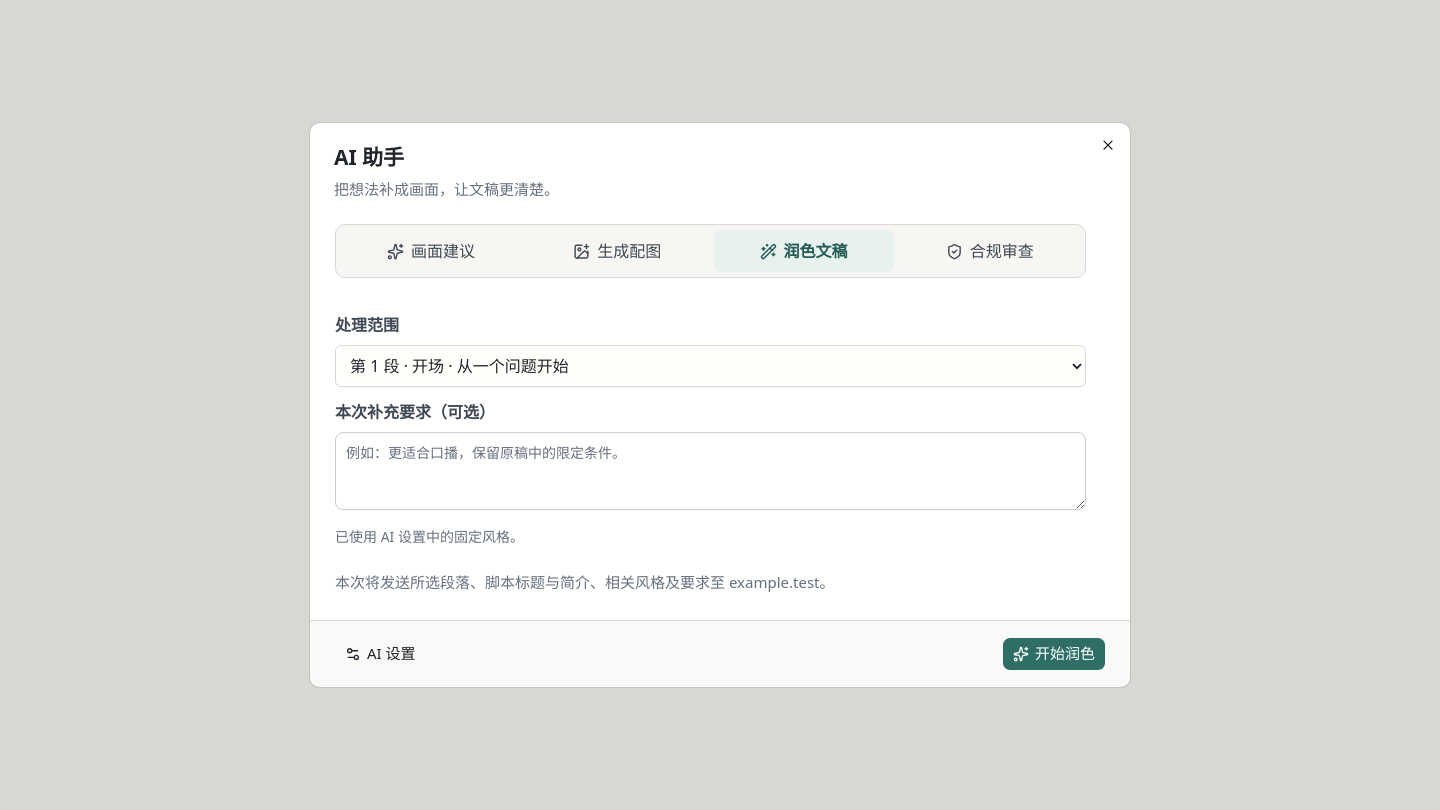
AI editor workflows › requests structured output for polish before showing a result
Click the button "开始润色" at (1054, 654), box [1002,637,1106,671]
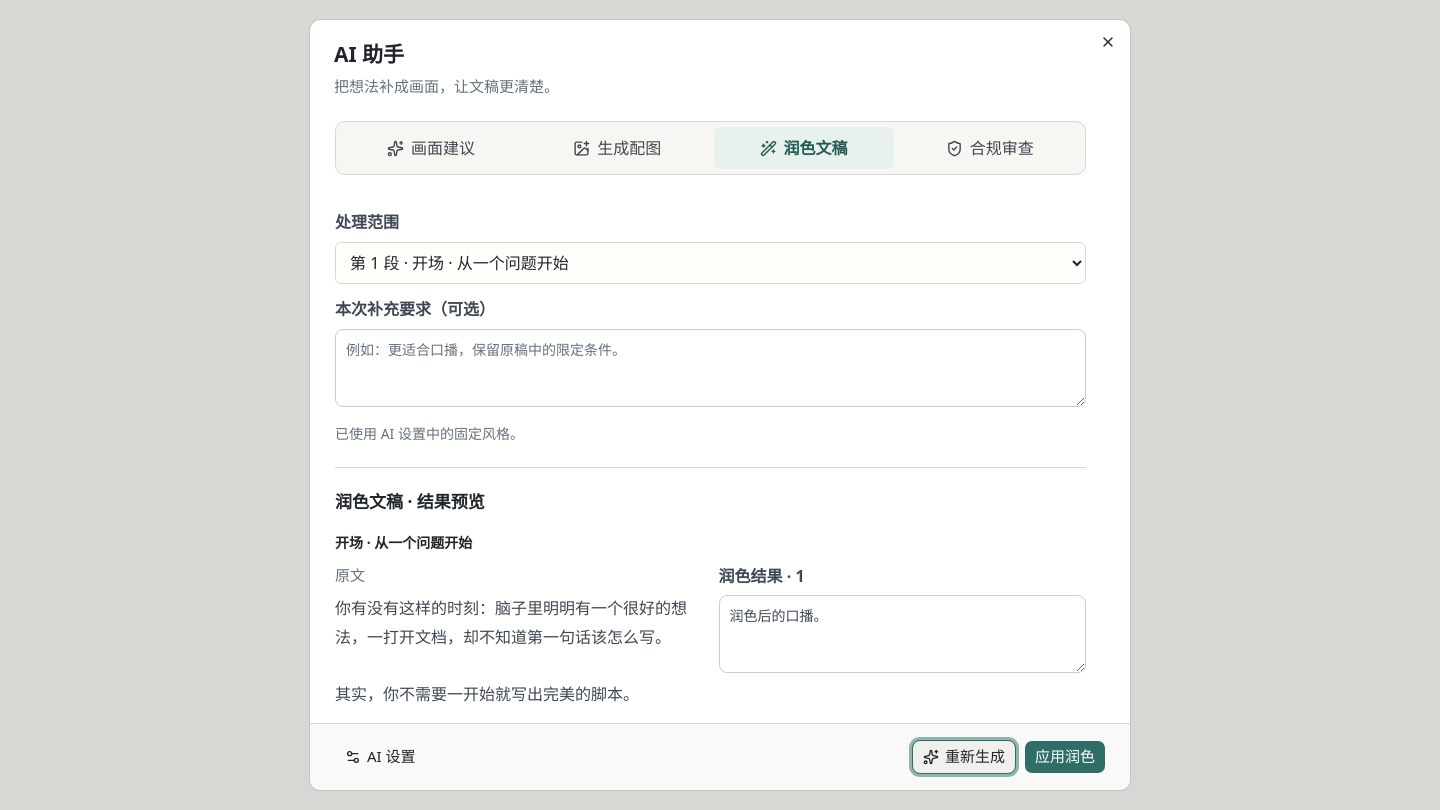
Expected: the button "应用润色" is shown, [1024,740,1106,774]
